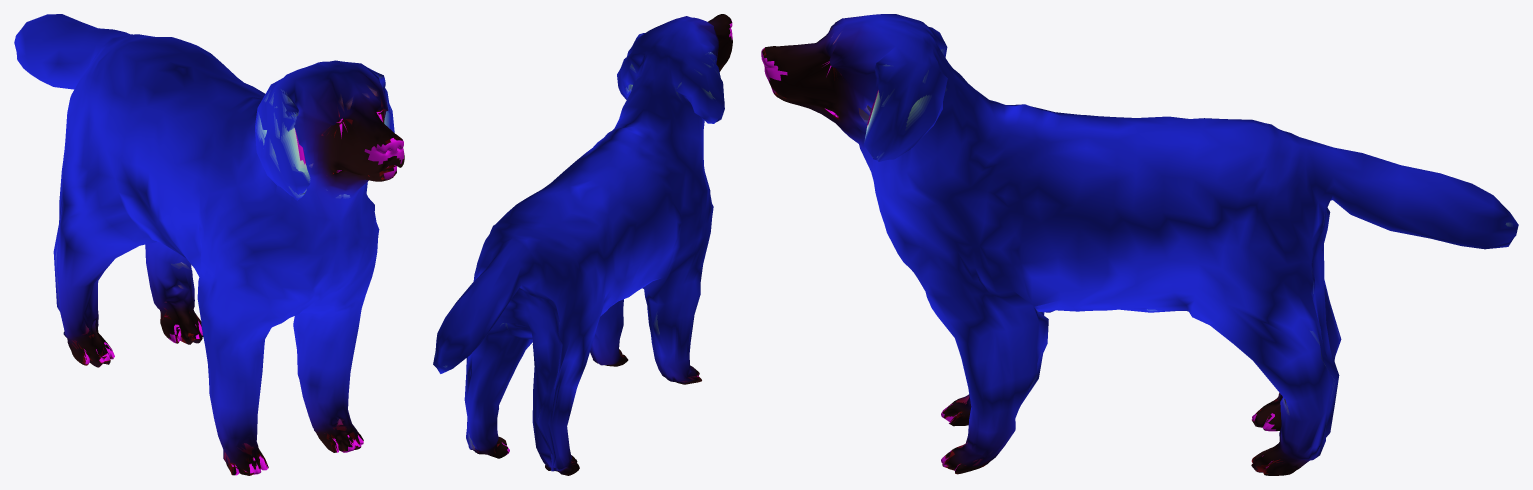
Rendered from dog.fbx.
The picture shows the model from 3 angles, left to right: view 1: azimuth 30°, elevation 25°; view 2: azimuth 150°, elevation 25°; view 3: azimuth 270°, elevation 25°; orthographic projection. The views are drawn at different scales.
Parts seen in each view (by area): view 1: merge1; view 2: merge1; view 3: merge1.
Part boxes in pixels (left/top/right/bottom): merge1: left=14, top=14, right=404, bottom=475; merge1: left=433, top=14, right=732, bottom=475; merge1: left=761, top=14, right=1518, bottom=475.
Bounding box in the file's own units: 24.15 × 64.92 × 104.
